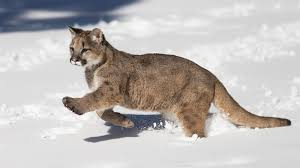Mountain Lion: (66, 24, 106, 68)
